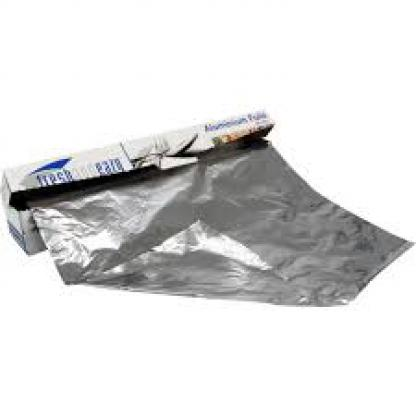METAL: (26, 139, 414, 303)
